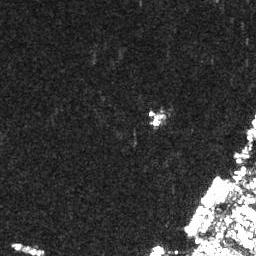ship: (181, 203, 208, 237), (199, 172, 224, 207), (8, 241, 47, 256)
